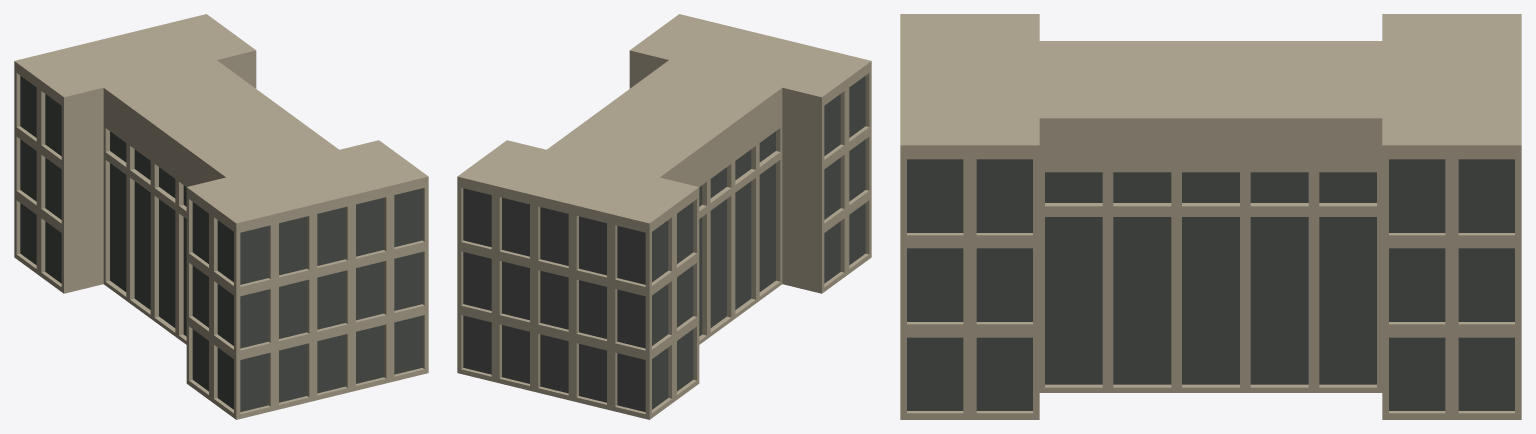
Rendered from building_1x2_5_f.glb.
3 renders of one model, left to right at view 1: azimuth 30°, elevation 25°; view 2: azimuth 150°, elevation 25°; view 3: azimuth 270°, elevation 25°, orthographic. The views are drawn at different scales.
Visible parts, largest first — view 1: SecondFloor; view 2: SecondFloor; view 3: SecondFloor.
Boxes of the visible parts, box(x1,y1,x2,y2) form: SecondFloor: box(14, 14, 428, 419); SecondFloor: box(457, 14, 871, 419); SecondFloor: box(900, 14, 1521, 419).
Size of the model in its own units: 1.68 by 1.64 by 3.36.
